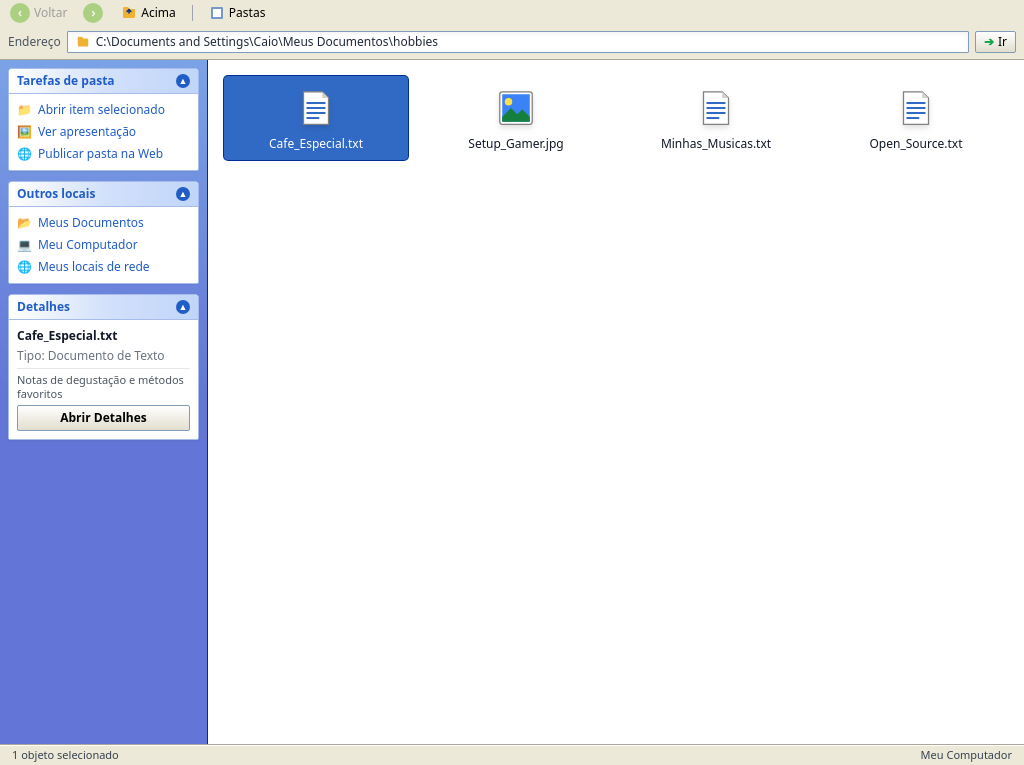
Windows XP Portfolio Applications › ExplorerFolderApp › opens hobby item window on double click via WindowManager
Double-click the element with test id "hobby-item-musica" at (716, 120), box [661,88,771,152]
(page scrolled)
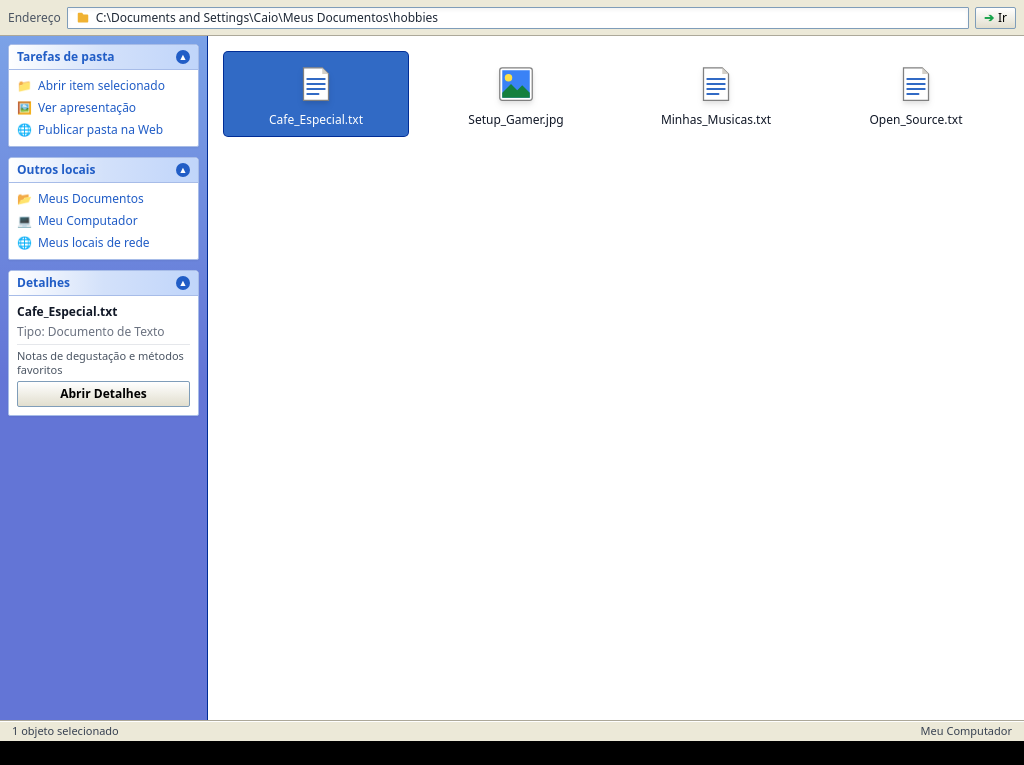
Check: the text "Musica Aberta" is shown, box [0,742,108,764]
